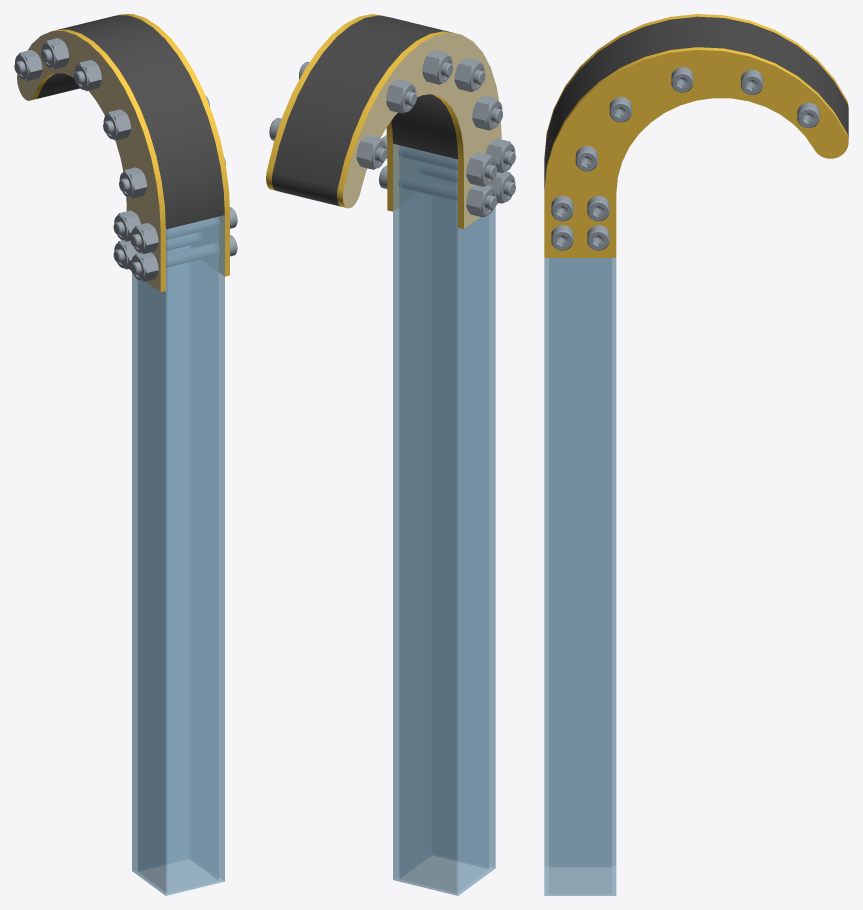
The picture shows the model from 3 angles, left to right: view 1: azimuth 30°, elevation 25°; view 2: azimuth 150°, elevation 25°; view 3: azimuth 270°, elevation 25°; orthographic projection. The views are drawn at different scales.
Visible parts, largest first — view 1: Upper tube, Hook spacer, Hook plate (×2), Hex lock nut with nylon insert #10-32 (×8), Socket head cap screw #10-32 x 1.5 (×3); view 2: Upper tube, Hook spacer, Hook plate (×2), Hex lock nut with nylon insert #10-32 (×8), Socket head cap screw #10-32 x 1.5 (×3); view 3: Upper tube, Hook plate (×2), Hook spacer.
Part boxes in pixels (x1,y1,x2,y2): Upper tube: (132, 215, 224, 895); Hook spacer: (36, 15, 224, 229); Hook plate (×2): (17, 14, 229, 292); Hex lock nut with nylon insert #10-32 (×8): (15, 38, 158, 281); Socket head cap screw #10-32 x 1.5 (×3): (113, 207, 237, 275); Upper tube: (393, 143, 495, 895); Hook spacer: (272, 15, 457, 206); Hook plate (×2): (266, 14, 501, 228); Hex lock nut with nylon insert #10-32 (×8): (356, 50, 515, 217); Socket head cap screw #10-32 x 1.5 (×3): (379, 135, 515, 209); Upper tube: (544, 258, 616, 895); Hook plate (×2): (544, 14, 848, 257); Hook spacer: (544, 16, 848, 189).
Bounding box in the file's own units: 0.0429 × 0.3303 × 0.1072.
